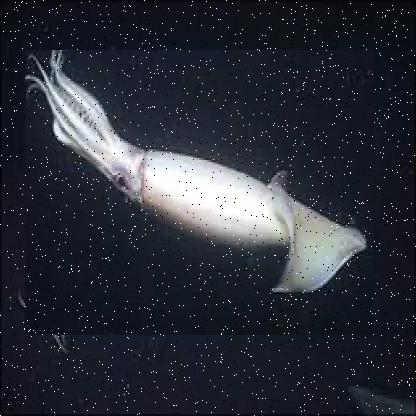colossal_squid: (26, 49, 376, 335)
